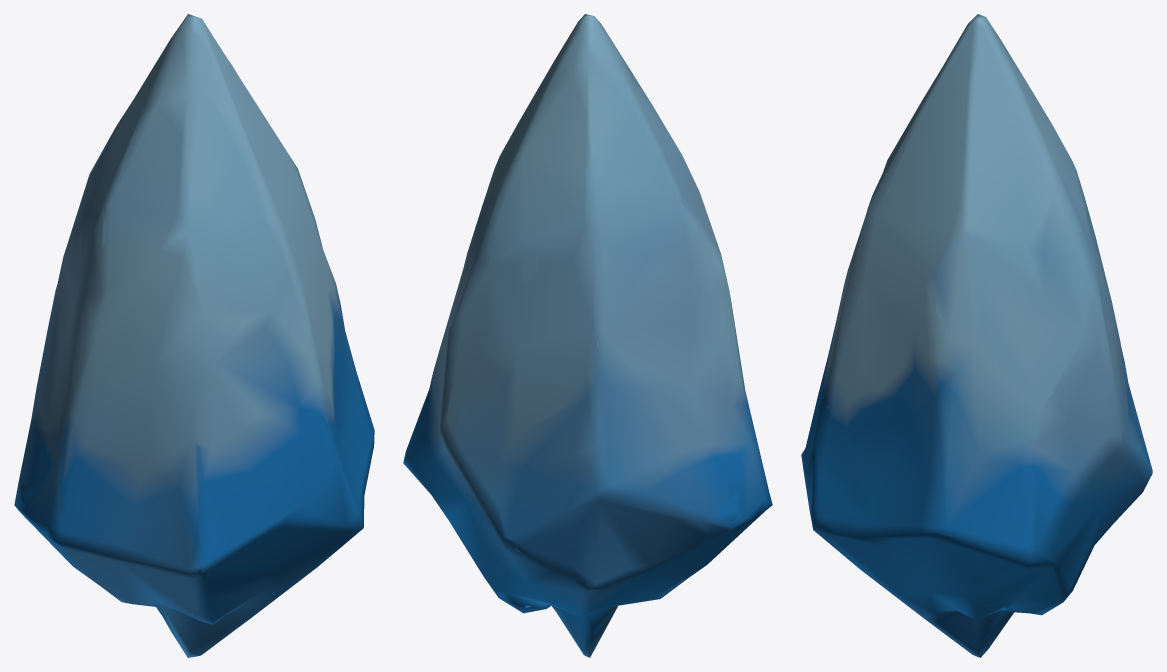
The model's file is gen3d-iceberg-lod0.glb.
3 views of the same model, side by side, from view 1: azimuth 30°, elevation 25°; view 2: azimuth 150°, elevation 25°; view 3: azimuth 270°, elevation 25° (orthographic).
Parts seen in each view (by area): view 1: part_0; view 2: part_0; view 3: part_0.
Part boxes in pixels (<box>): part_0: <box>14,14,374,657</box>; part_0: <box>403,14,772,657</box>; part_0: <box>801,14,1152,657</box>.
Bounding box in the file's own units: 0.5231 × 0.9961 × 0.496.
